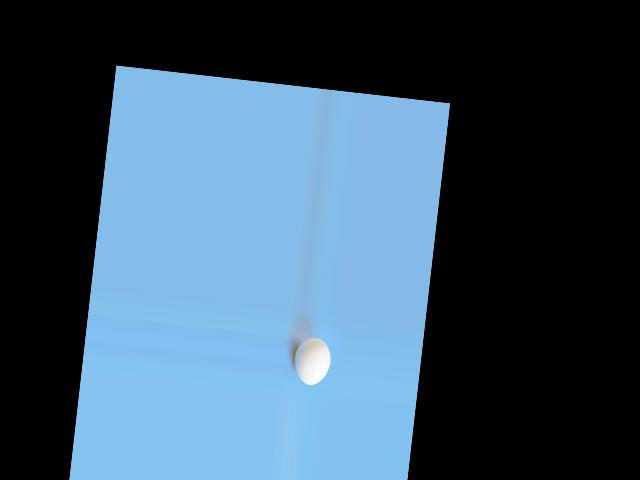egg: (291, 335, 332, 387)
